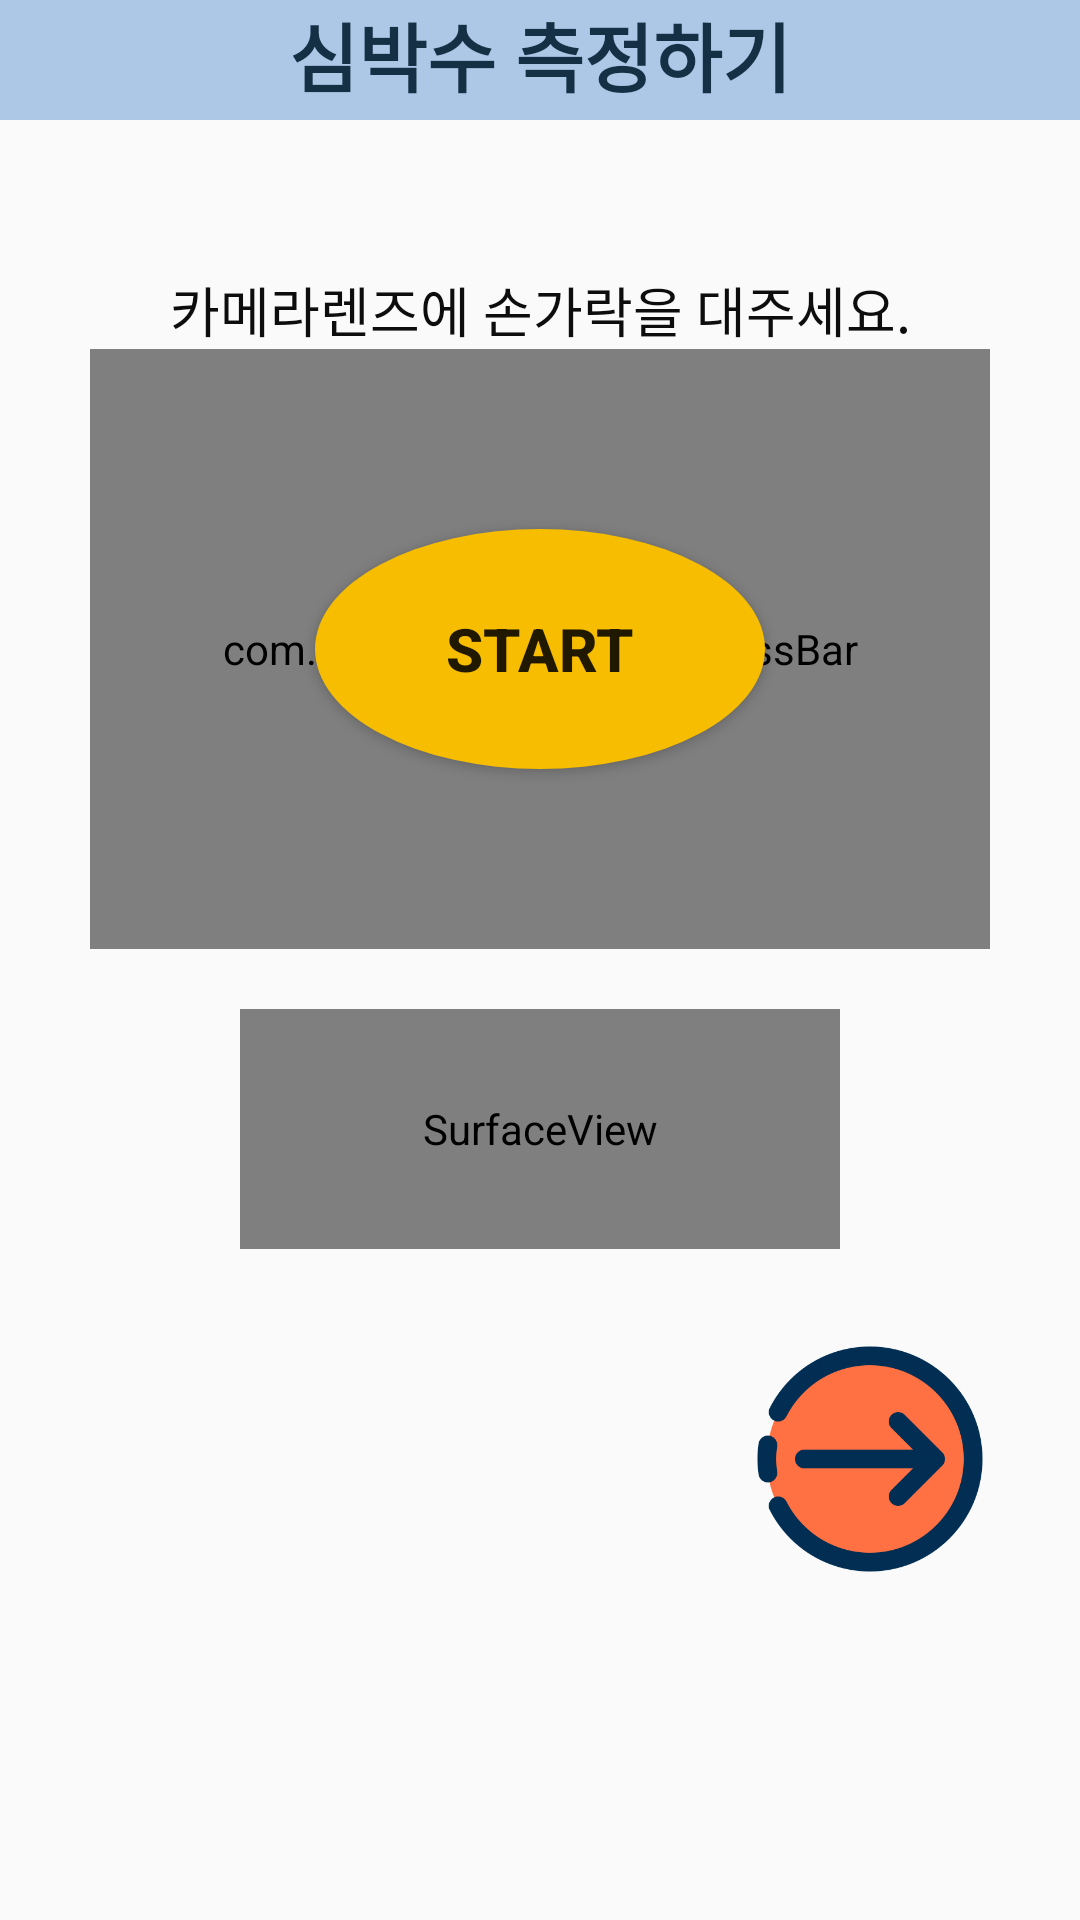

Screen size 1080x1920. Icon name, then its box in pixels as rect(x1, y1, x2, y2):
rightskip: rect(757, 1346, 983, 1572)
